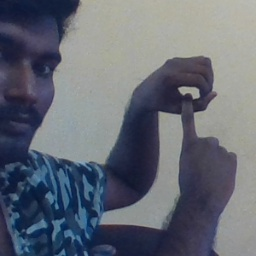Q: (143, 50, 239, 178)
